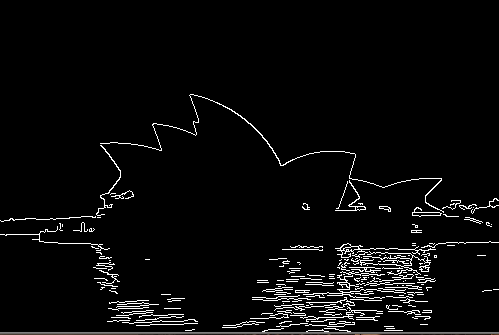opera house: (71, 82, 456, 226)
